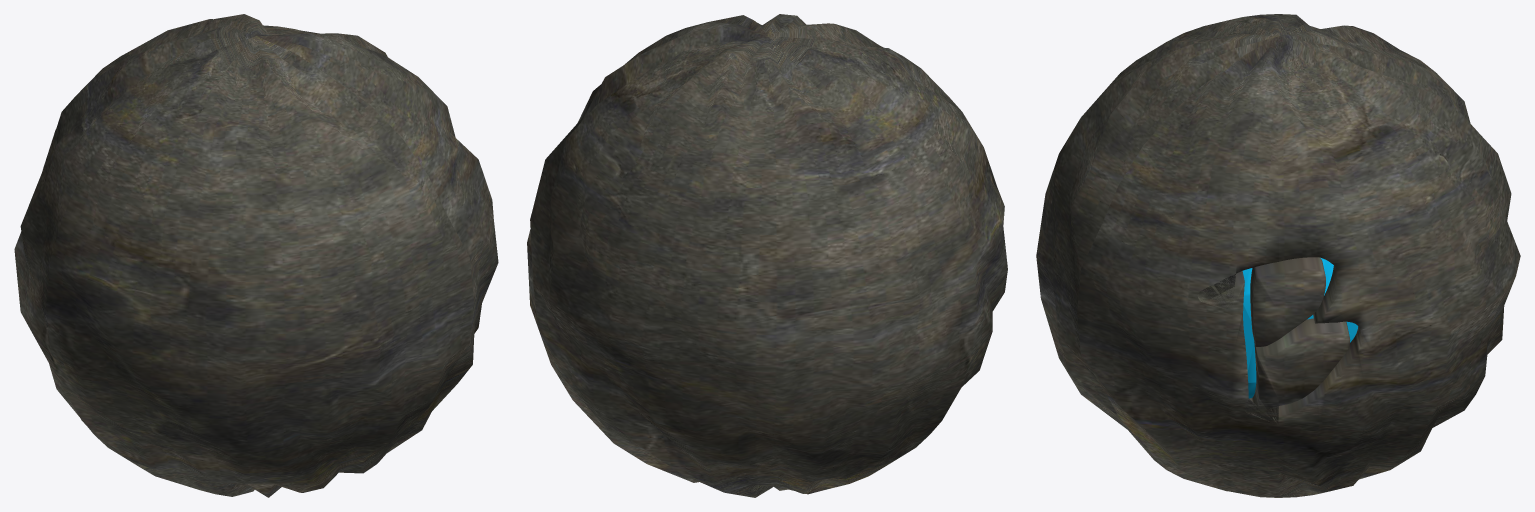
The model's file is Boulder (B).fbx.
The picture shows the model from 3 angles, left to right: view 1: azimuth 30°, elevation 25°; view 2: azimuth 150°, elevation 25°; view 3: azimuth 270°, elevation 25°; orthographic projection.
Parts seen in each view (by area): view 1: Sphere.005; view 2: Sphere.005; view 3: Sphere.005.
Boxes of the visible parts, x1=… form: Sphere.005: x1=14, y1=14, x2=498, y2=497; Sphere.005: x1=527, y1=14, x2=1007, y2=497; Sphere.005: x1=1036, y1=14, x2=1520, y2=497.
Size of the model in its own units: 210 by 208 by 210.
